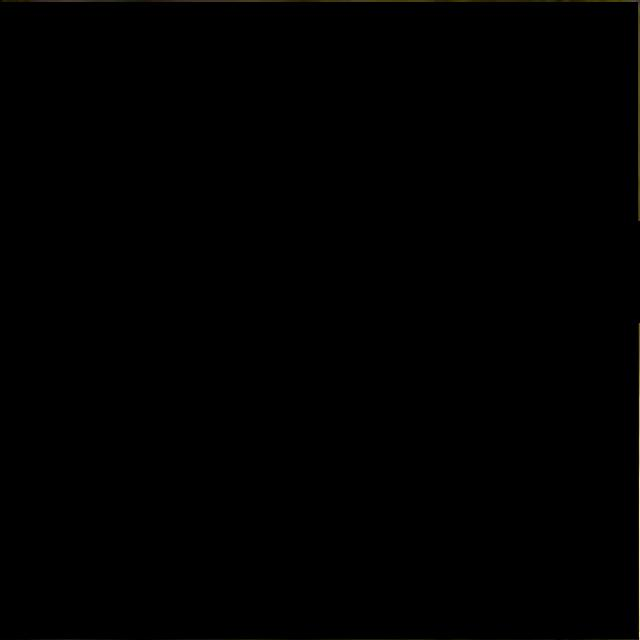smoke: (1, 2, 638, 640)
